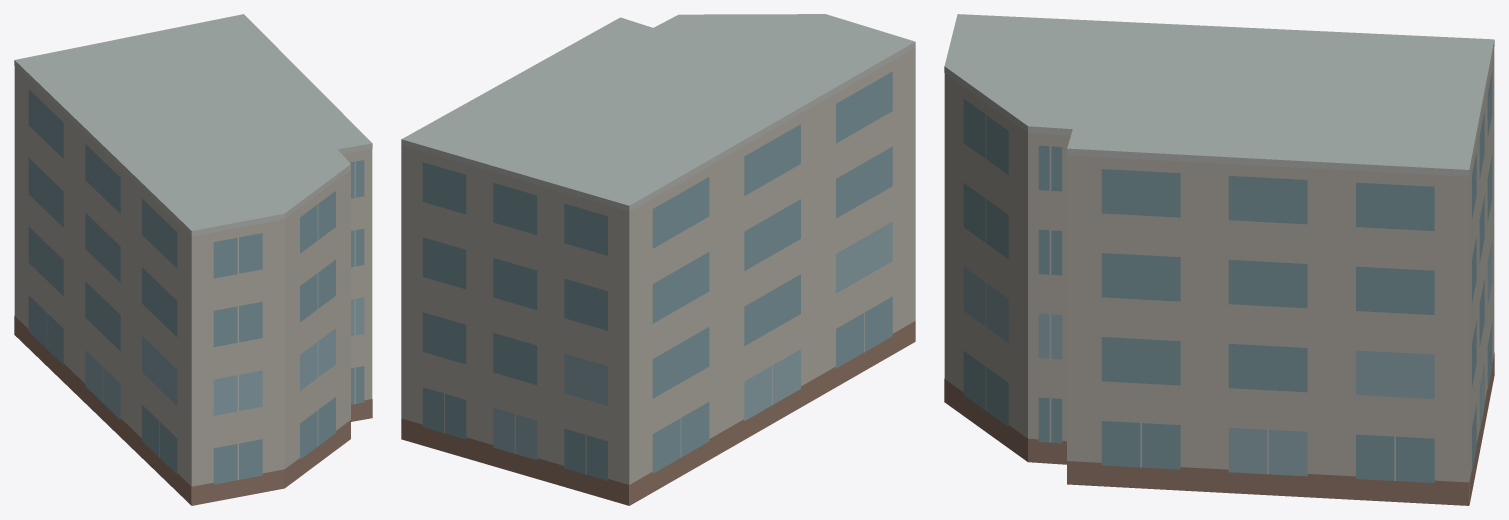
The model's file is survey-upis-33007150.glb.
The picture shows the model from 3 angles, left to right: view 1: azimuth 30°, elevation 25°; view 2: azimuth 150°, elevation 25°; view 3: azimuth 270°, elevation 25°; orthographic projection. The views are drawn at different scales.
Visible parts, largest first — view 1: survey-upis-33007150.tmp; view 2: survey-upis-33007150.tmp; view 3: survey-upis-33007150.tmp.
Part boxes in pixels (left/top/right/bottom): survey-upis-33007150.tmp: left=14, top=14, right=372, bottom=505; survey-upis-33007150.tmp: left=401, top=14, right=915, bottom=505; survey-upis-33007150.tmp: left=944, top=14, right=1494, bottom=505.
Size of the model in its own units: 12.16 by 12.2 by 18.11.
